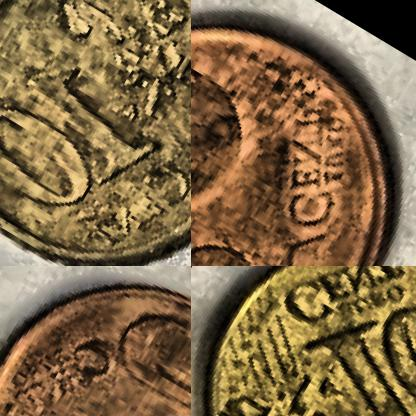coin: (191, 0, 415, 265), (0, 0, 190, 265), (191, 266, 415, 415), (0, 266, 190, 415)
